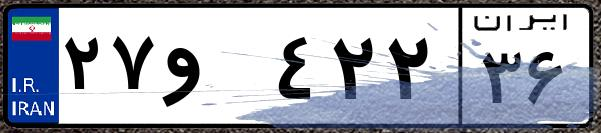2: (385, 28, 445, 110), (330, 28, 385, 110), (57, 26, 110, 100)
3: (475, 38, 525, 113)
4: (270, 28, 330, 110)
6: (525, 38, 570, 115)
7: (110, 28, 158, 98)
و: (158, 20, 270, 120)
